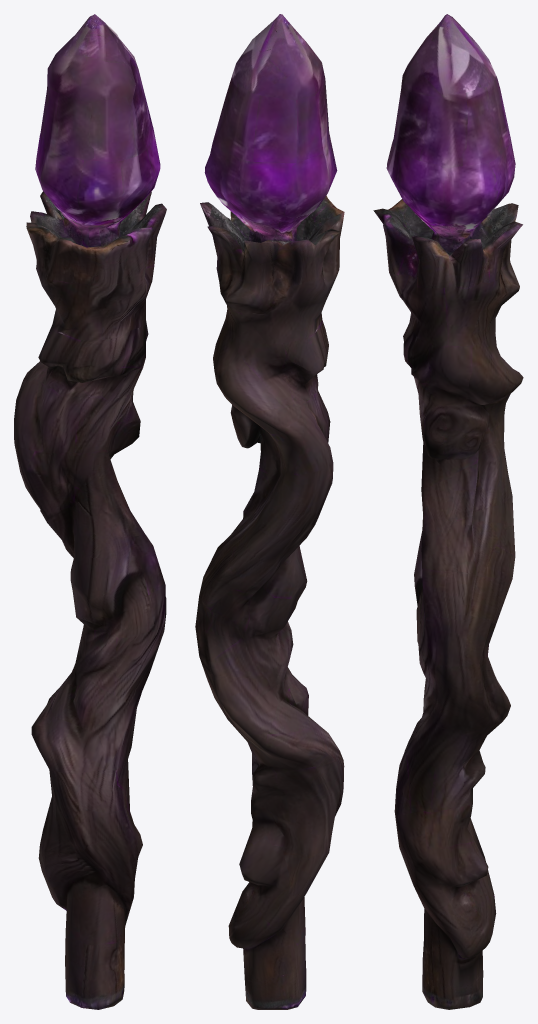
The model's file is 1018_staff.glb.
3 views of the same model, side by side, from view 1: azimuth 30°, elevation 25°; view 2: azimuth 150°, elevation 25°; view 3: azimuth 270°, elevation 25° (orthographic).
Visible parts, largest first — view 1: Model; view 2: Model; view 3: Model.
Part boxes in pixels (x1,y1,x2,y2): Model: (14, 14, 166, 1009); Model: (195, 14, 344, 1009); Model: (373, 14, 523, 1009).
Size of the model in its own units: 0.1453 by 1 by 0.1383.
Materials: 1 (1 with a texture image).
